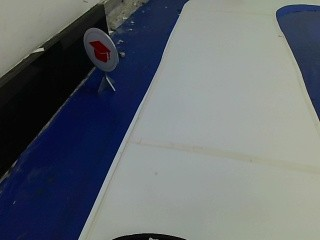school: (81, 26, 119, 71)
